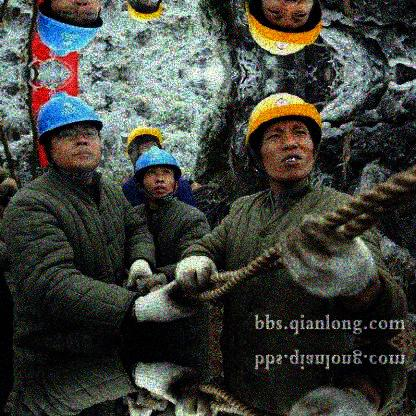helmet: (245, 93, 324, 193), (35, 91, 105, 178), (245, 1, 324, 60), (40, 1, 105, 59), (134, 145, 182, 205), (126, 127, 163, 163), (125, 1, 168, 25)
